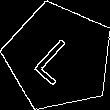L_NE: (30, 28, 87, 86)
